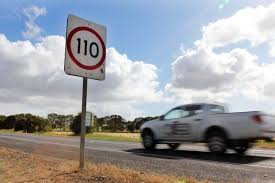Speed_limit_110km: (66, 26, 106, 71)
